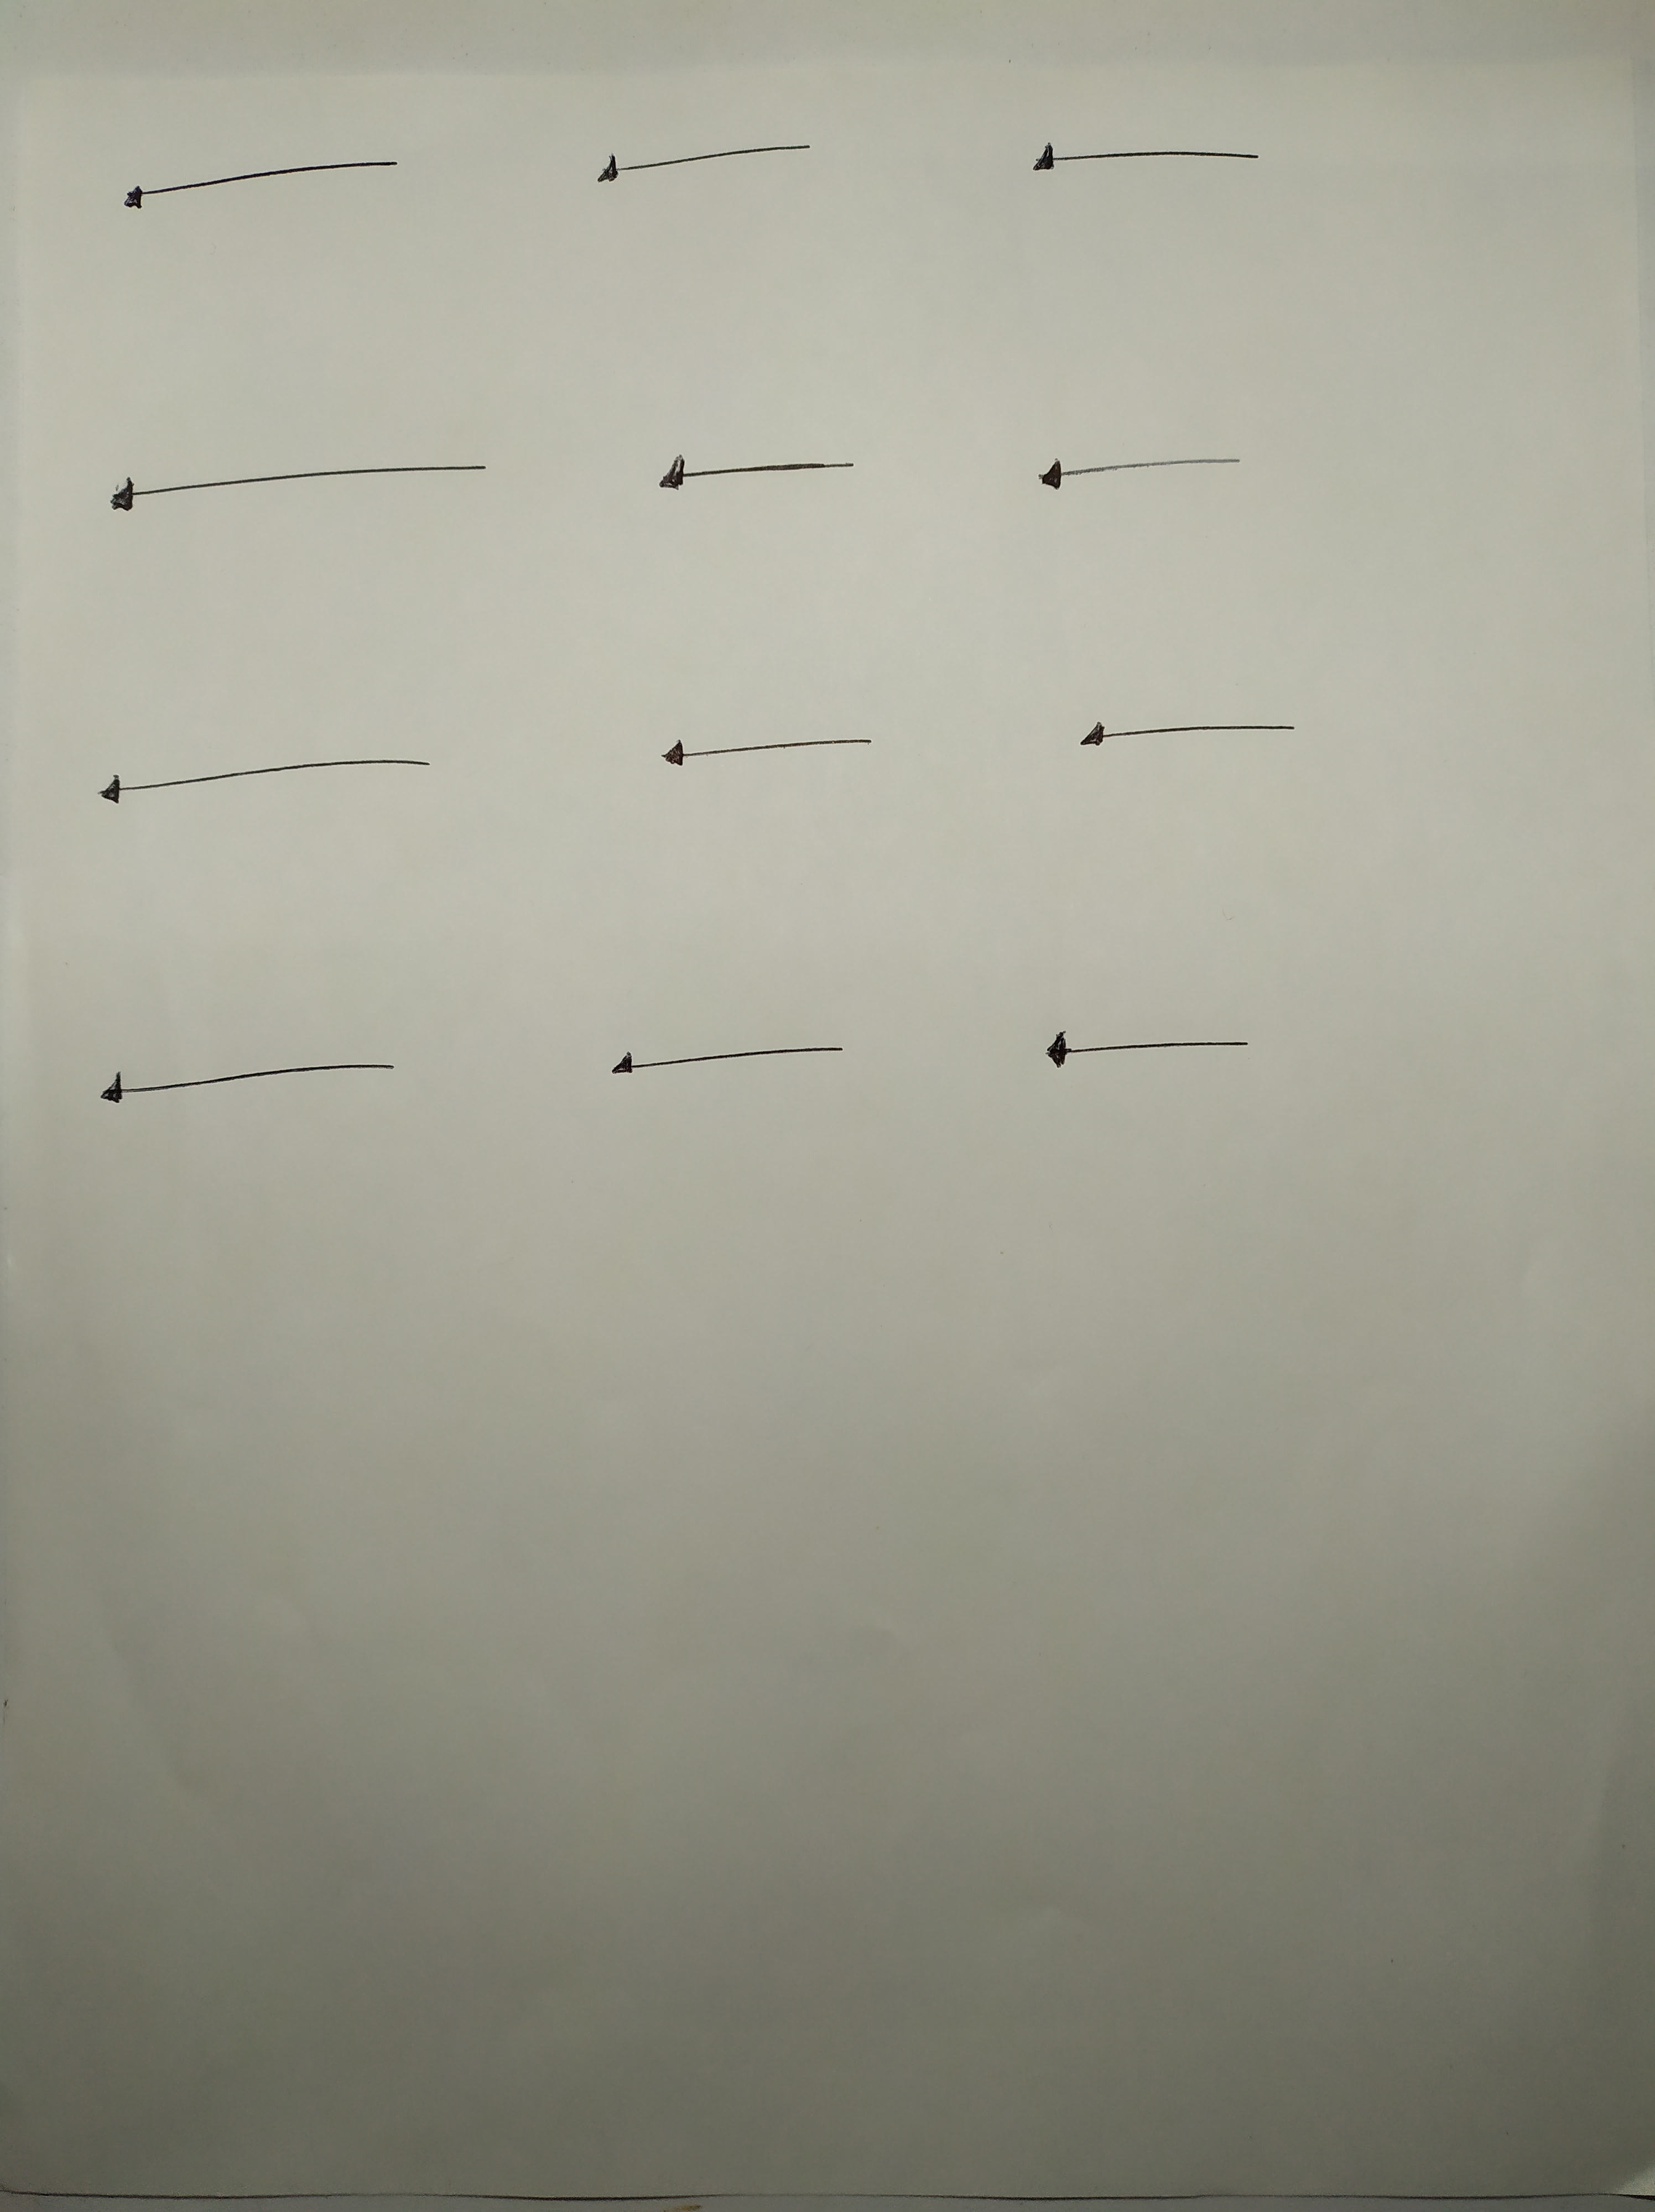arrow_line_left: (80, 716, 487, 832), (101, 433, 516, 533), (76, 1027, 421, 1124), (104, 141, 435, 226), (626, 431, 899, 525), (1019, 1003, 1297, 1088), (635, 702, 906, 785), (582, 1018, 883, 1089), (1014, 429, 1271, 509), (575, 116, 836, 193), (1060, 686, 1330, 758), (1012, 125, 1293, 191)
